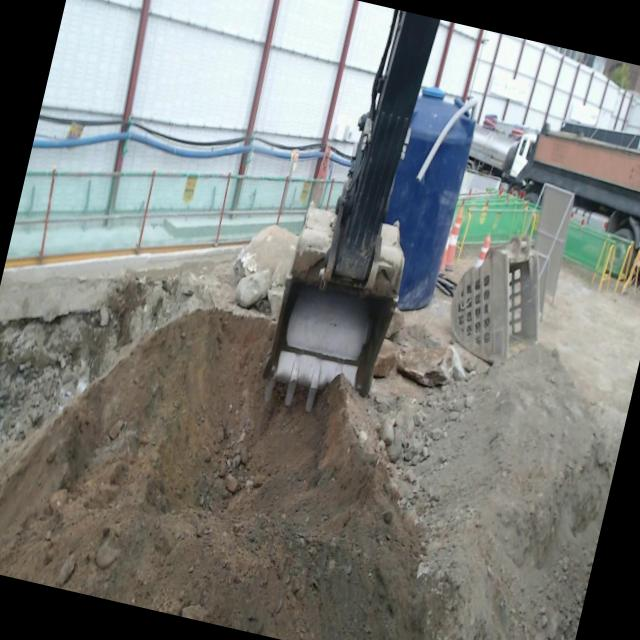red-sand: (0, 309, 426, 640)
rocks: (234, 225, 298, 317)
stone: (396, 346, 453, 386)
white-sand: (414, 347, 612, 640)
